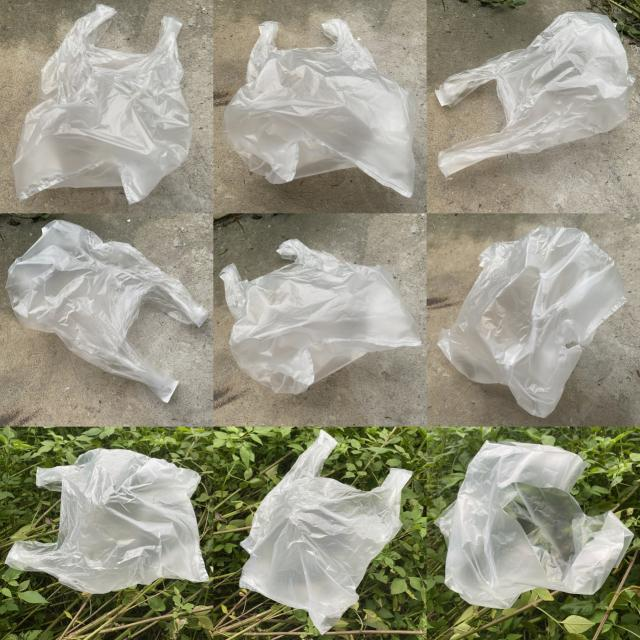Single-layer Plastic: (6, 220, 208, 402), (439, 226, 626, 417), (12, 5, 192, 203), (240, 430, 411, 634), (222, 19, 416, 198), (435, 12, 635, 176), (438, 441, 632, 609), (220, 239, 421, 393), (6, 449, 209, 594)
